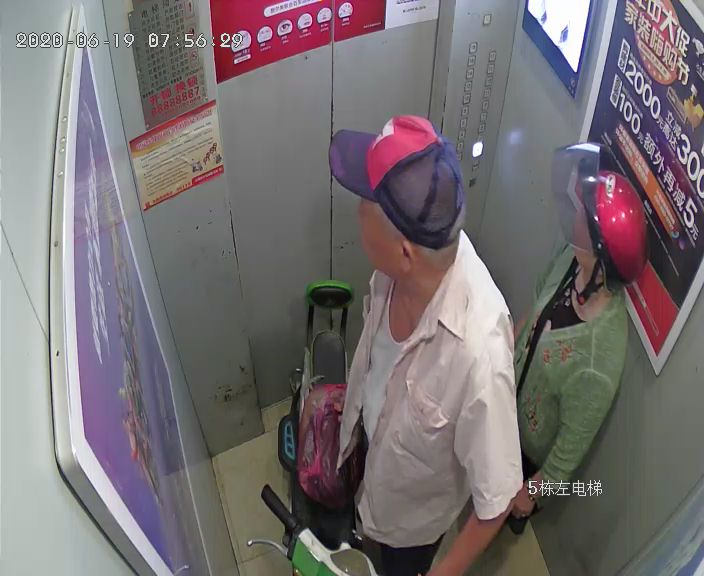Electric-bicycle: (248, 278, 379, 576)
